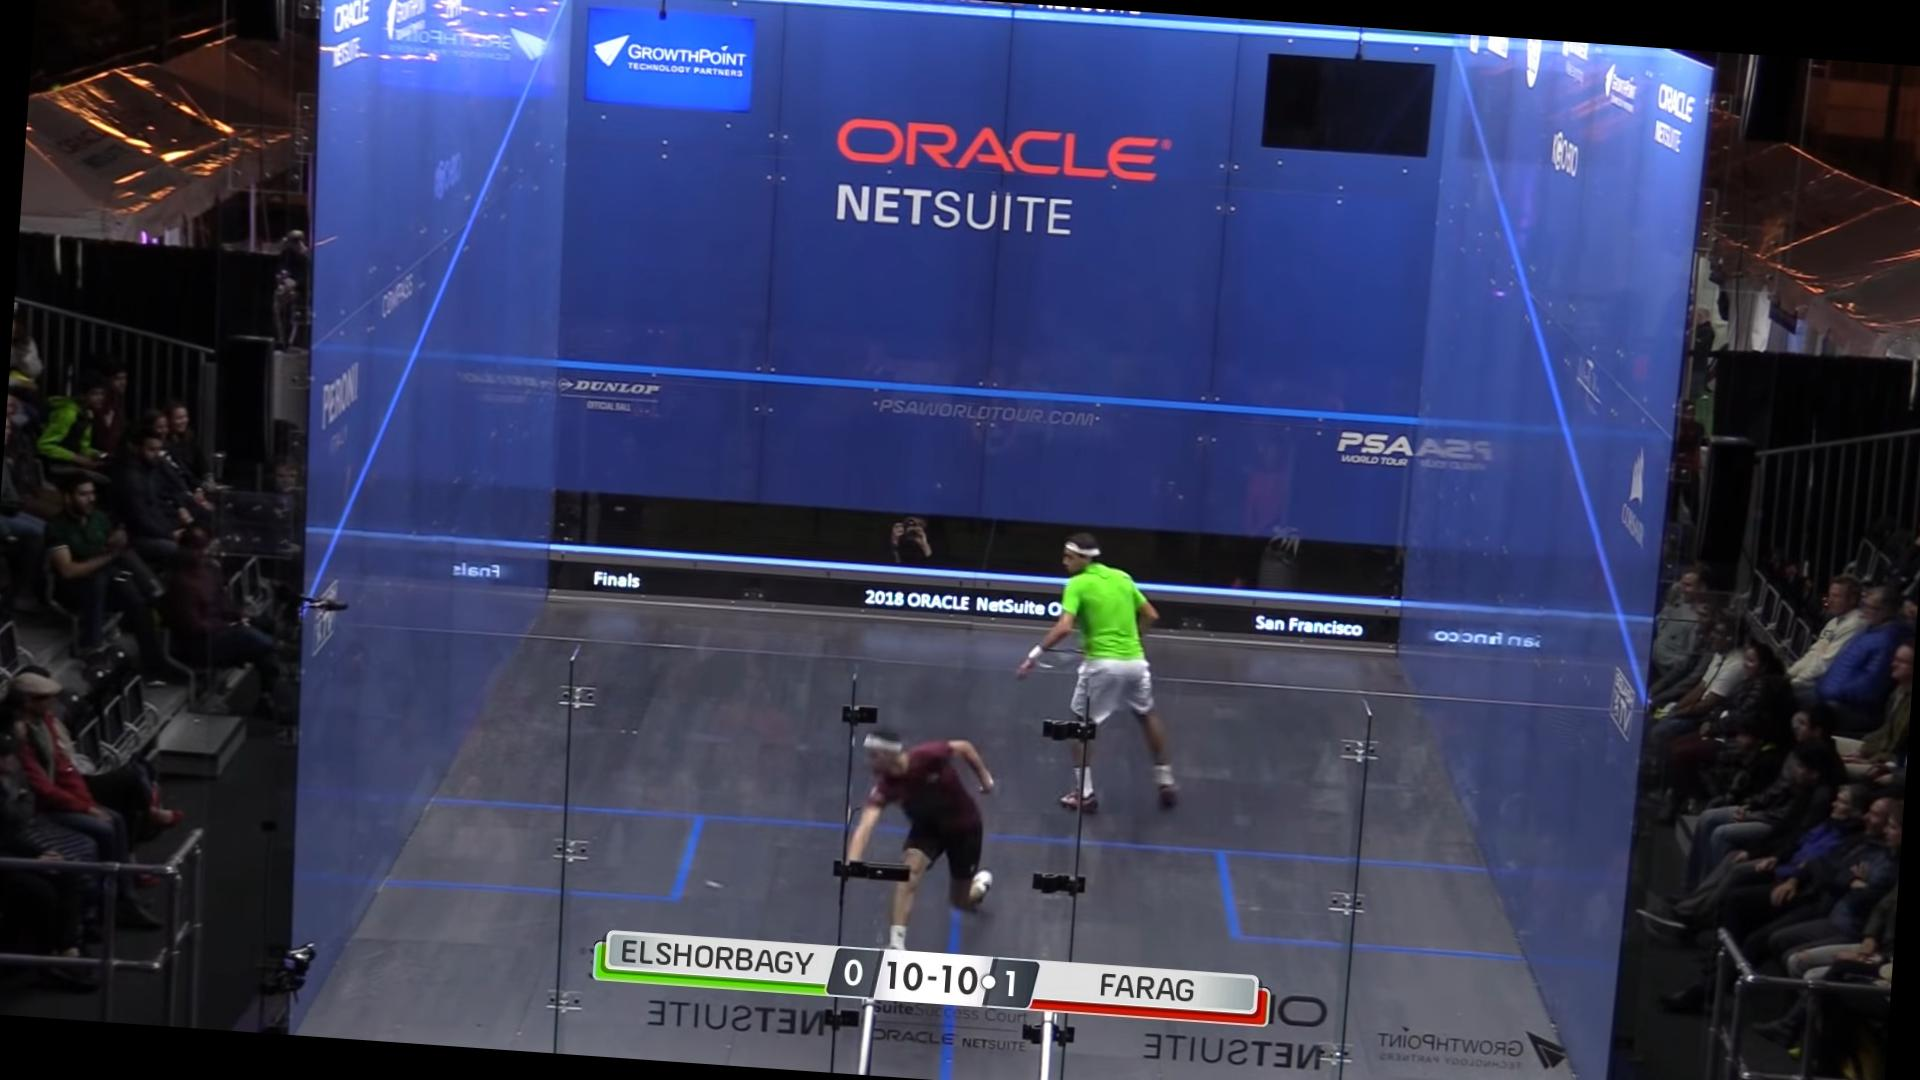Squash-Ball: (699, 873, 731, 898)
